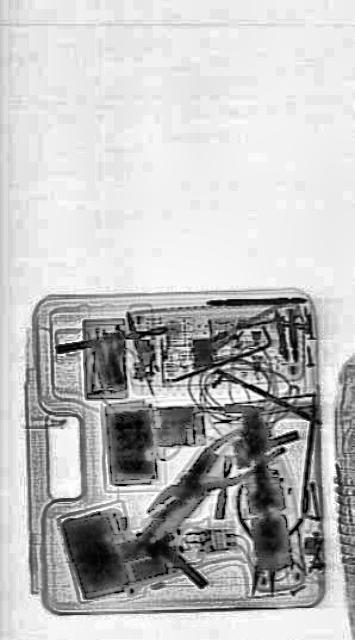Pliers: (139, 410, 269, 540), (226, 464, 310, 604)
